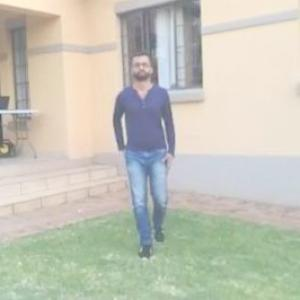follow: (113, 41, 175, 229)
